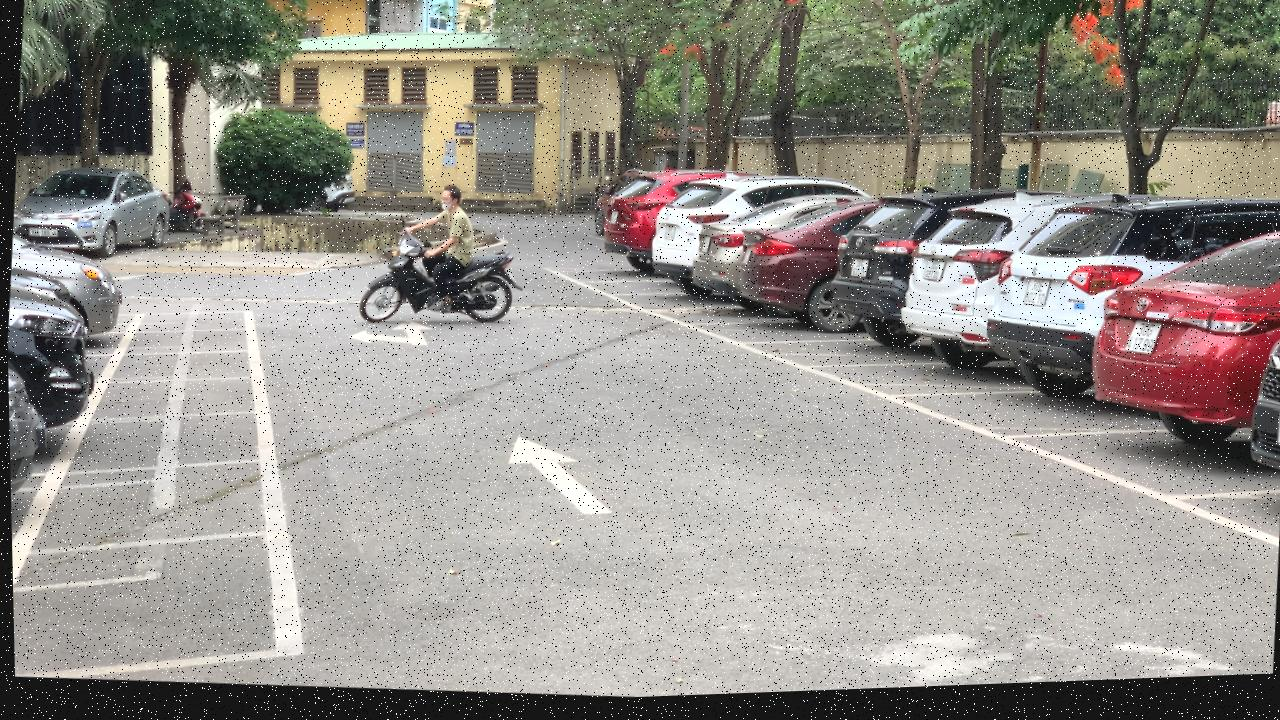motorcyclist: (352, 179, 530, 341)
